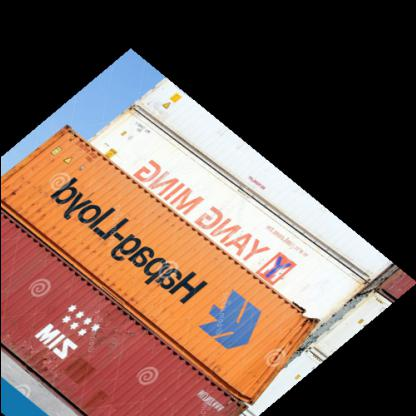Damage: (270, 312, 324, 369)
